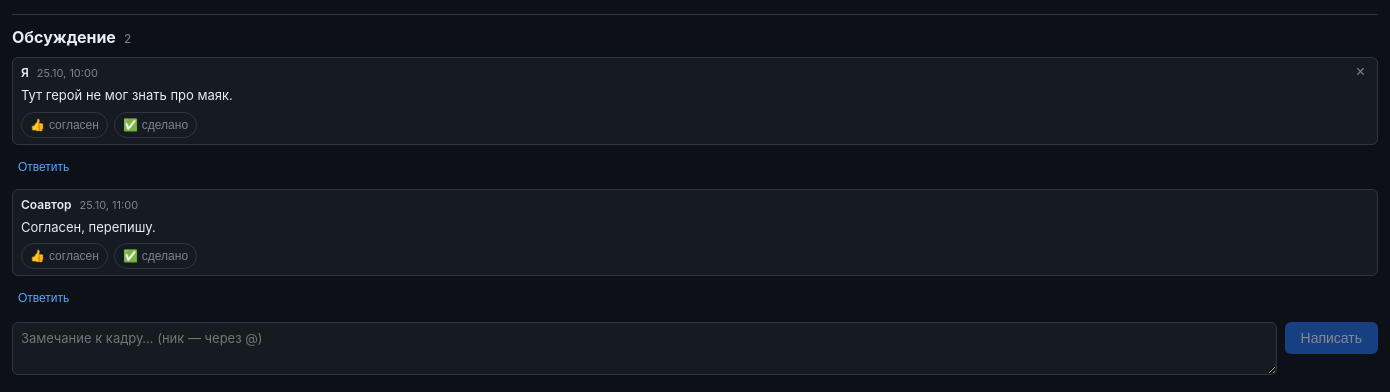
FrameComments › удалить можно только свой комментарий
Check: the text "Согласен, перепишу." is shown, box [21,218,156,234]
Click the button named "Удалить комментарий": click(1360, 72) [1352,64,1369,80]
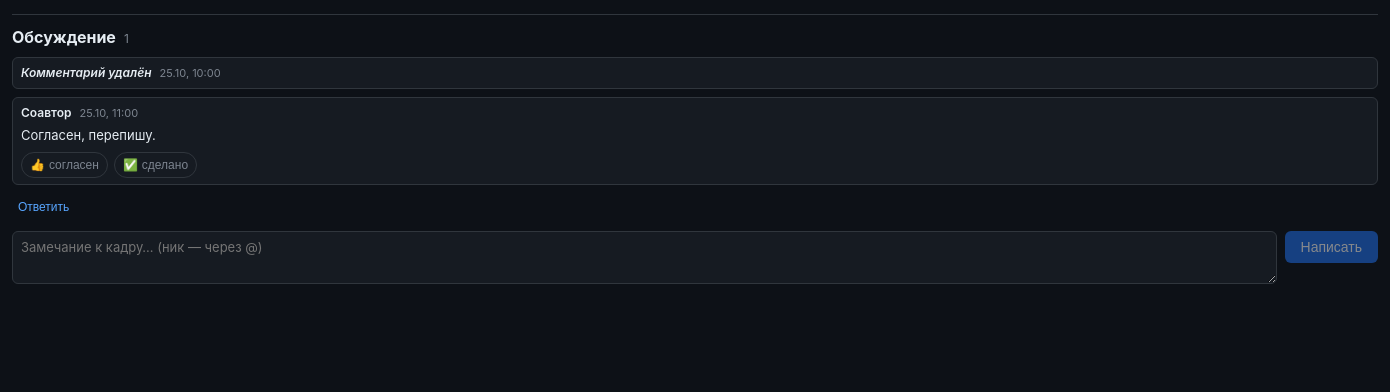
Check: the text "Комментарий удалён" is shown, box [21,65,152,80]
